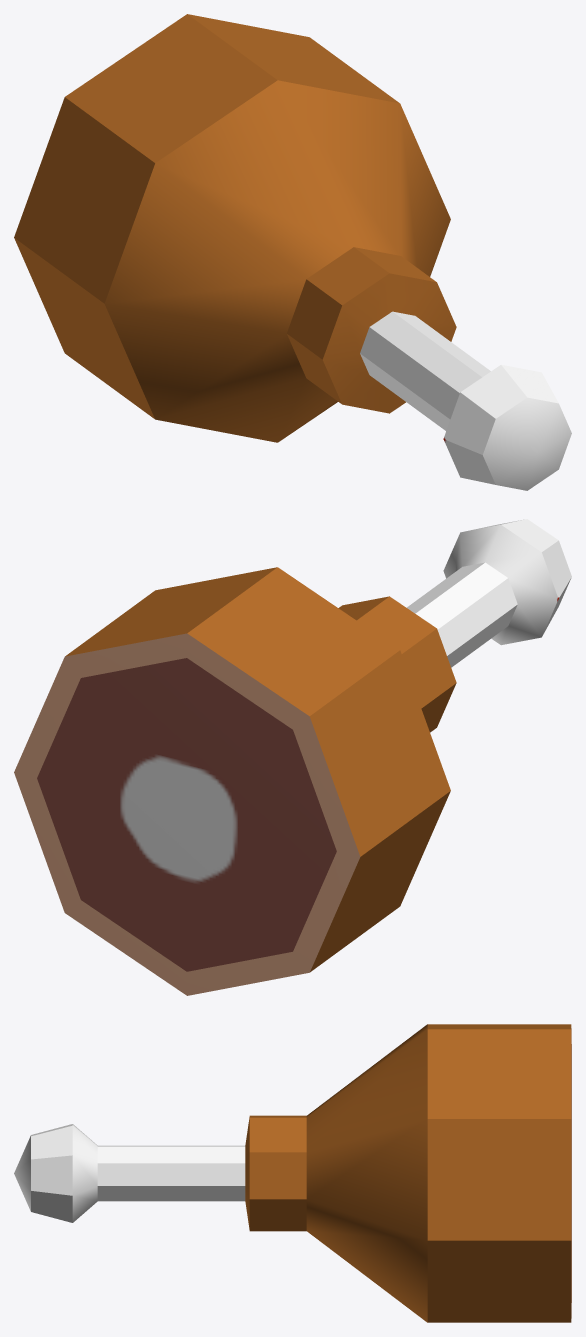
The model's file is Unwrapped_meat4.fbx.
The picture shows the model from 3 angles, top to bottom: view 1: azimuth 30°, elevation 25°; view 2: azimuth 150°, elevation 25°; view 3: azimuth 270°, elevation 25°; orthographic projection. The views are drawn at different scales.
Parts seen in each view (by area): view 1: Sphere005; view 2: Sphere005; view 3: Sphere005.
Boxes of the visible parts, <box> form: Sphere005: <box>14,14,571,490</box>; Sphere005: <box>14,519,571,995</box>; Sphere005: <box>14,1024,571,1322</box>.
Size of the model in its own units: 18.03 by 18.03 by 31.65.
